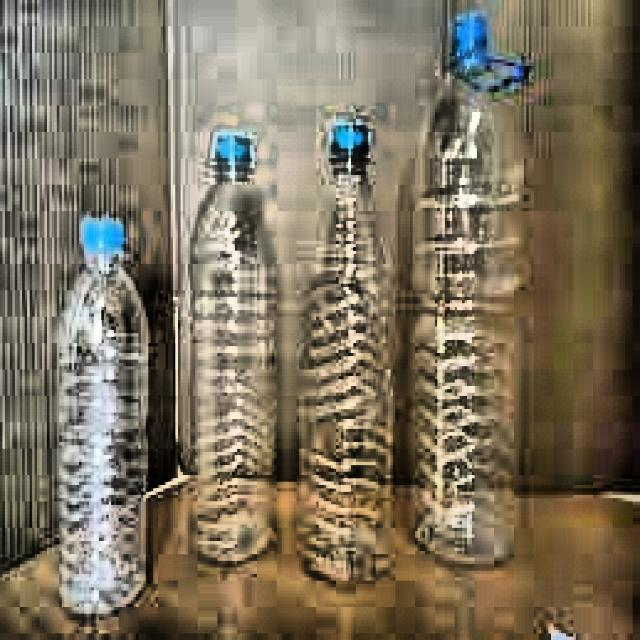plastic bottle: (415, 80, 518, 563), (299, 120, 392, 580), (191, 180, 276, 562), (59, 265, 148, 613)
